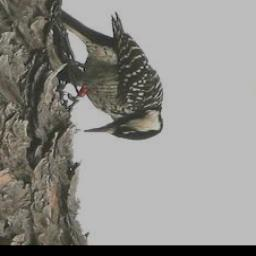Woodpecker: (52, 10, 164, 141)
